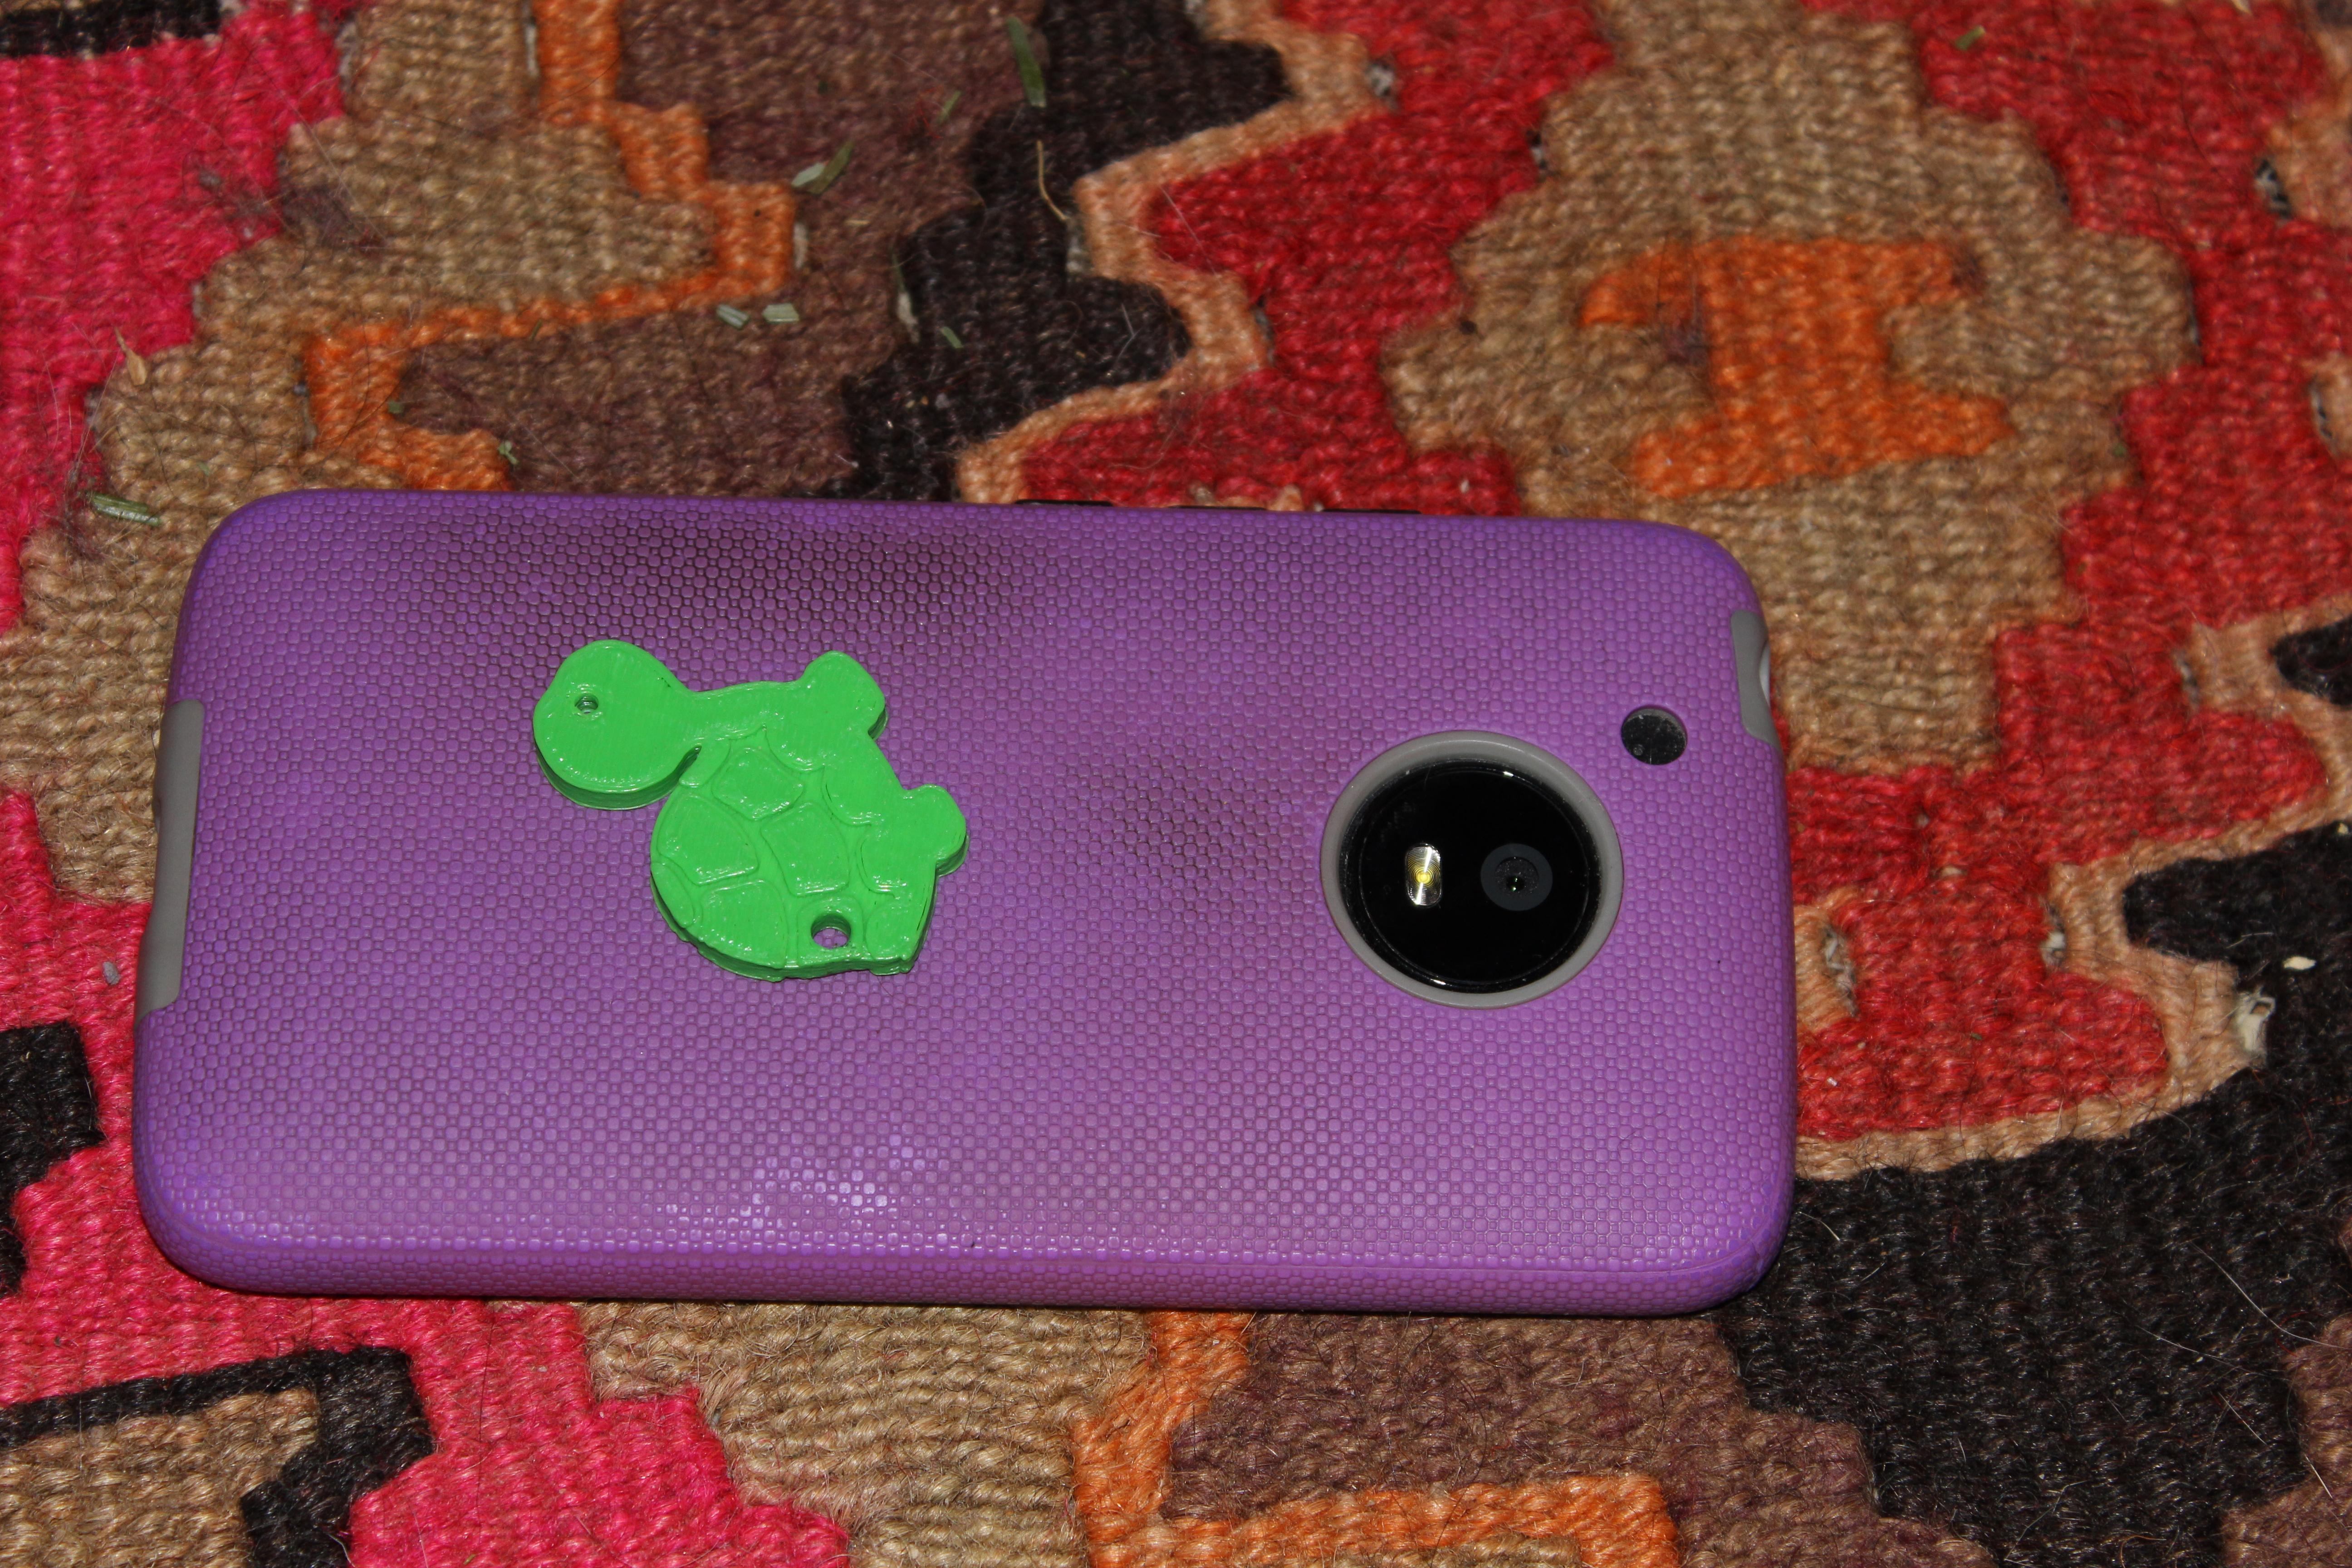turtle: (490, 618, 1012, 1017)
